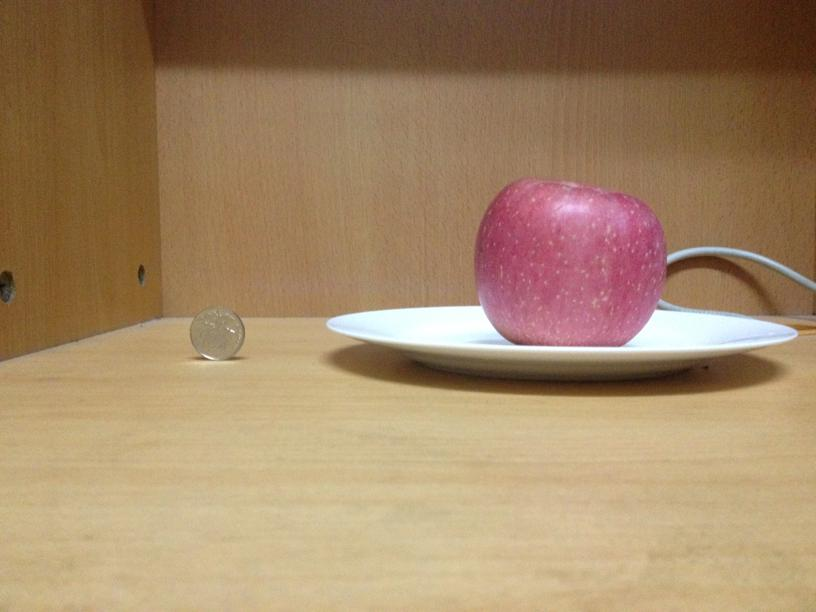apple: (473, 175, 666, 344)
coin: (189, 306, 246, 362)
